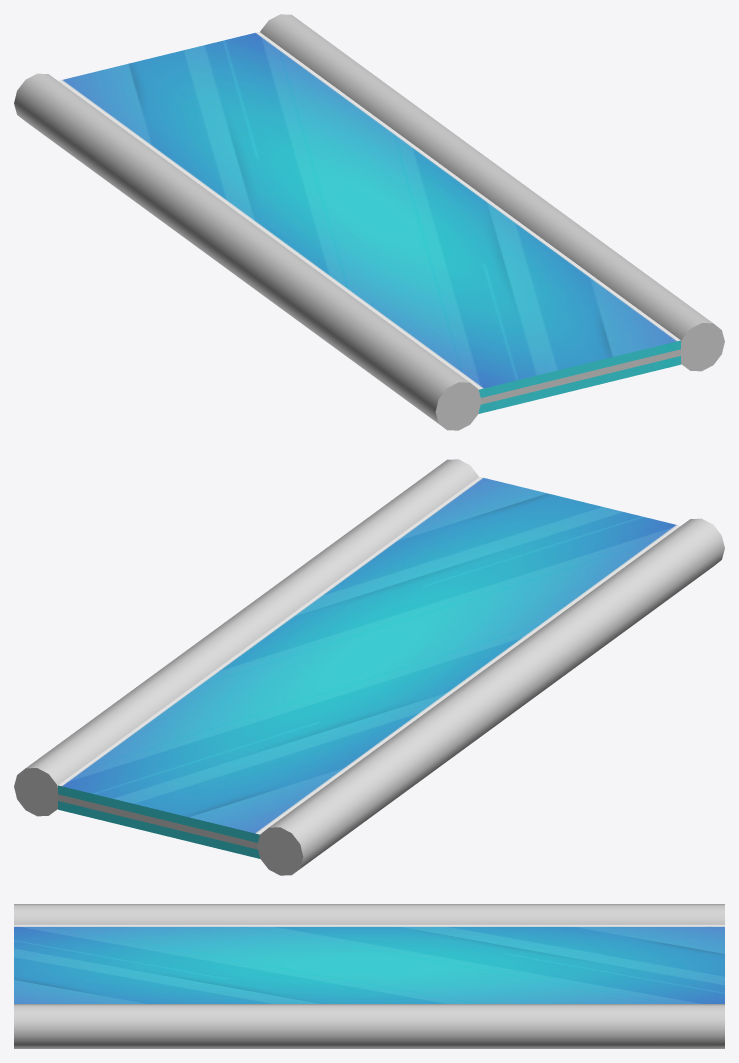
Rendered from PLF0110196.fbx.
The picture shows the model from 3 angles, top to bottom: view 1: azimuth 30°, elevation 25°; view 2: azimuth 150°, elevation 25°; view 3: azimuth 270°, elevation 25°; orthographic projection. The views are drawn at different scales.
Visible parts, largest first — view 1: smPLF0110196; view 2: smPLF0110196; view 3: smPLF0110196.
Part boxes in pixels (x1,y1,x2,y2): smPLF0110196: (14,14,724,430); smPLF0110196: (14,459,724,875); smPLF0110196: (14,904,724,1048).
Bounding box in the file's own units: 183 × 29.18 × 461.
